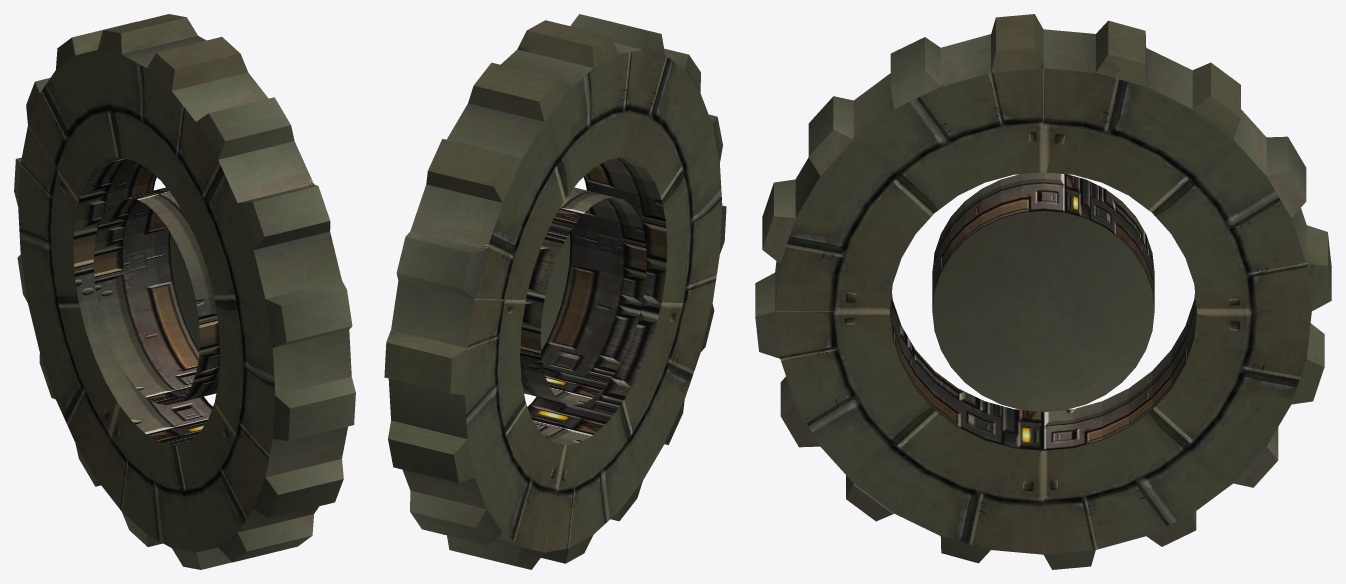
File: S_Gear.glb
The picture shows the model from 3 angles, left to right: view 1: azimuth 30°, elevation 25°; view 2: azimuth 150°, elevation 25°; view 3: azimuth 270°, elevation 25°; orthographic projection. The views are drawn at different scales.
Visible parts, largest first — view 1: Circle.001; view 2: Circle.001; view 3: Circle.001.
Part boxes in pixels (x1,y1,x2,y2): Circle.001: (14, 14, 355, 569); Circle.001: (384, 14, 726, 569); Circle.001: (755, 14, 1331, 569).
Size of the model in its own units: 1.13 by 7.04 by 7.04.
Materials: 1 (1 with a texture image).
